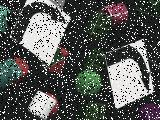Right: (10, 0, 70, 65), (104, 38, 154, 110)
